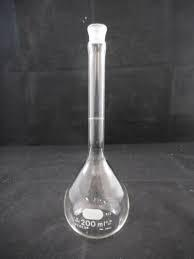Volumetric flask: (45, 23, 140, 240)
